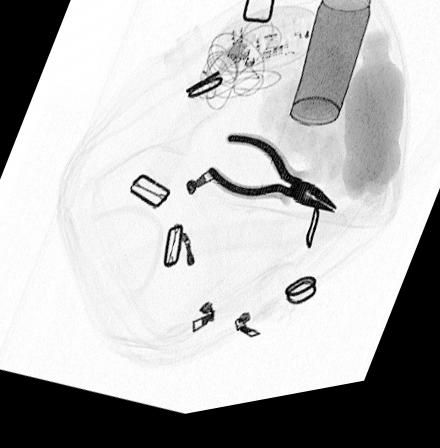Pliers: (204, 139, 339, 228)
